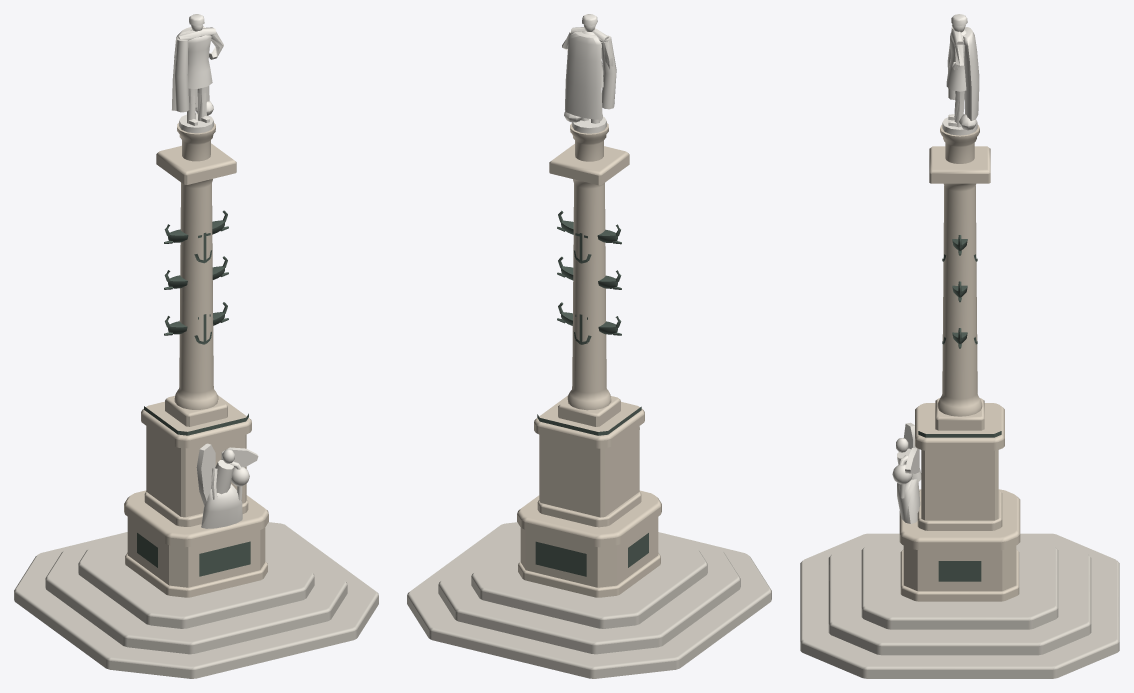
File: nyc-columbus-monument.glb
3 views of the same model, side by side, from view 1: azimuth 30°, elevation 25°; view 2: azimuth 150°, elevation 25°; view 3: azimuth 270°, elevation 25° (orthographic).
Visible parts, largest first — view 1: Columbus Monument; view 2: Columbus Monument; view 3: Columbus Monument.
Part boxes in pixels (x1,y1,x2,y2): Columbus Monument: (14,14,378,678); Columbus Monument: (407,14,771,678); Columbus Monument: (800,14,1119,678).
Size of the model in its own units: 11.2 by 23.02 by 11.2.
